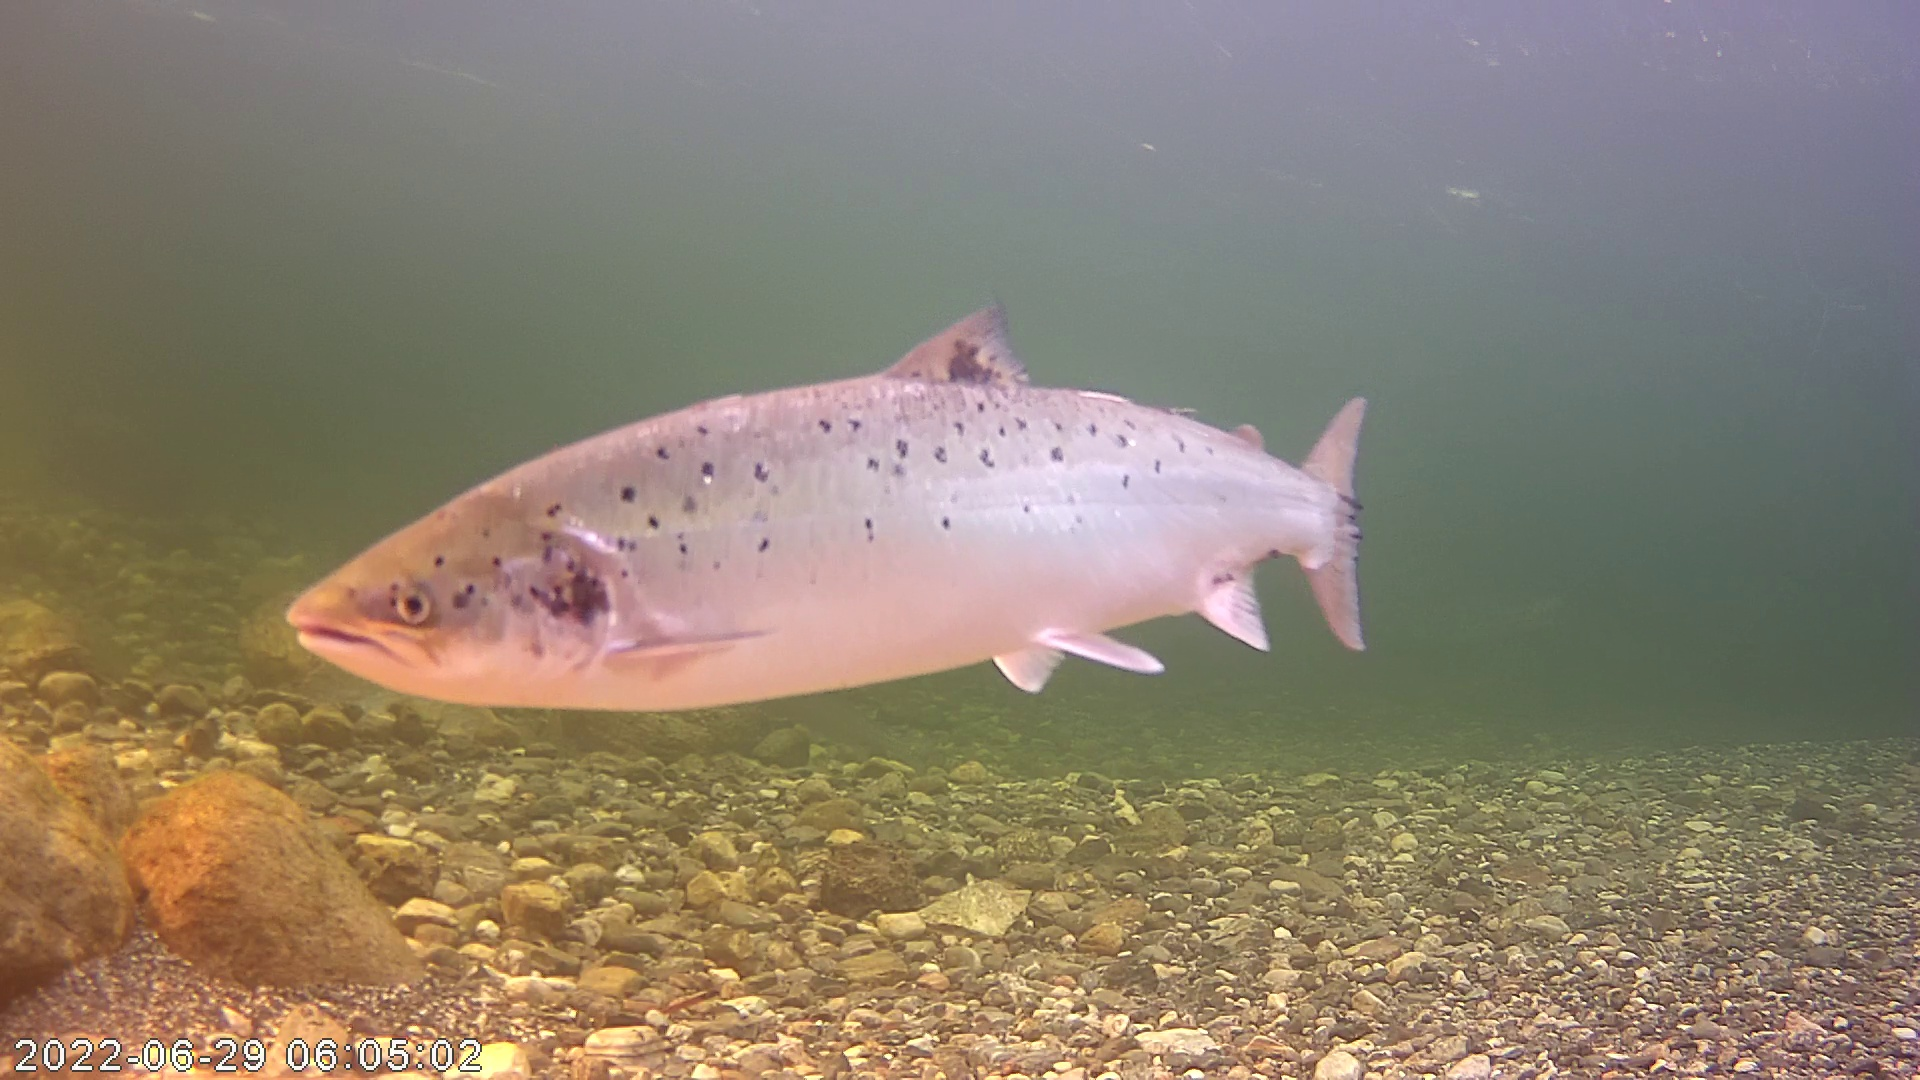salmon: (285, 247, 1379, 771)
